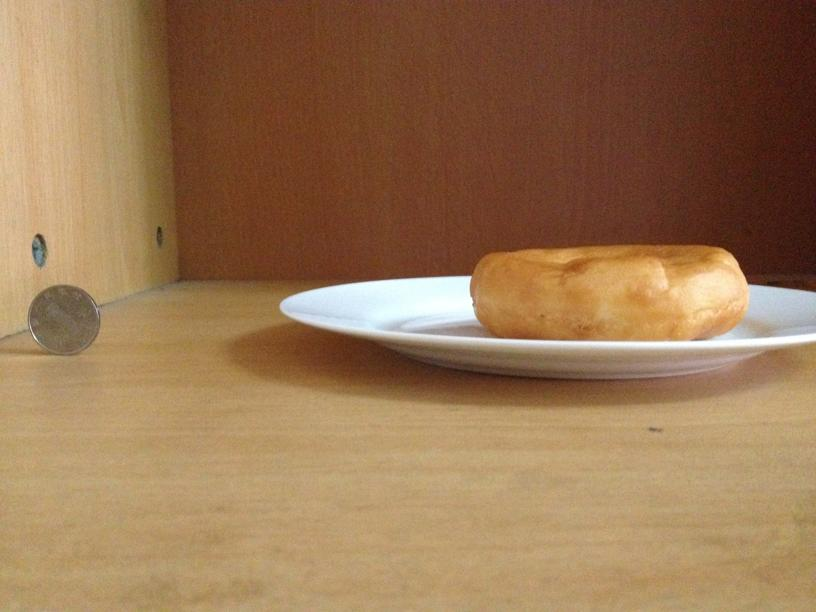coin: (467, 242, 747, 341)
doughnut: (467, 242, 747, 341)
